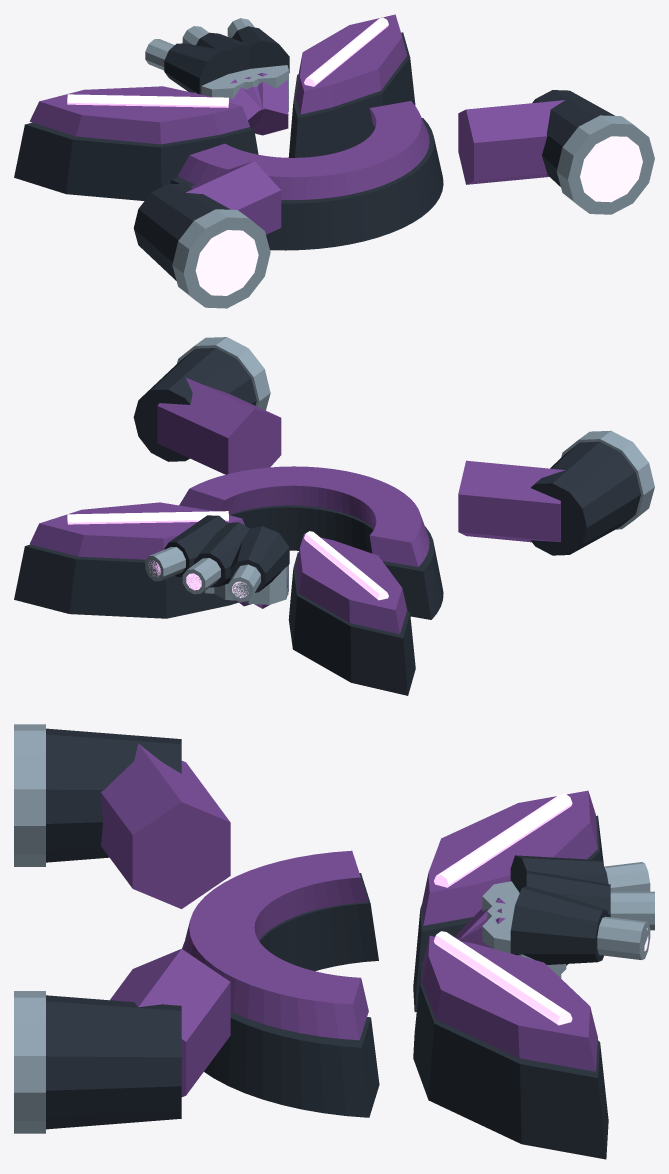
File: c5_ufofast.glb
3 renders of one model, top to bottom at view 1: azimuth 30°, elevation 25°; view 2: azimuth 150°, elevation 25°; view 3: azimuth 270°, elevation 25°, orthographic. The views are drawn at different scales.
Parts seen in each view (by area): view 1: ufofast / Armor, ufofast / Chassis, ufofast / Titanium, ufofast / Energy; view 2: ufofast / Chassis, ufofast / Armor, ufofast / Titanium, ufofast / Energy; view 3: ufofast / Chassis, ufofast / Armor, ufofast / Titanium, ufofast / Energy.
Boxes of the visible parts, x1,y1,x2,y2 form: ufofast / Armor: (29,14,564,234); ufofast / Chassis: (14,26,614,280); ufofast / Titanium: (145,18,654,308); ufofast / Energy: (67,17,642,295); ufofast / Chassis: (14,348,640,695); ufofast / Armor: (30,377,565,634); ufofast / Titanium: (145,337,654,604); ufofast / Energy: (67,511,388,600); ufofast / Chassis: (46,728,610,1159); ufofast / Armor: (100,743,597,1096); ufofast / Titanium: (14,724,654,1133); ufofast / Energy: (434,793,648,1025).
Bounding box in the file's own units: 1.57 × 0.355 × 1.3.
